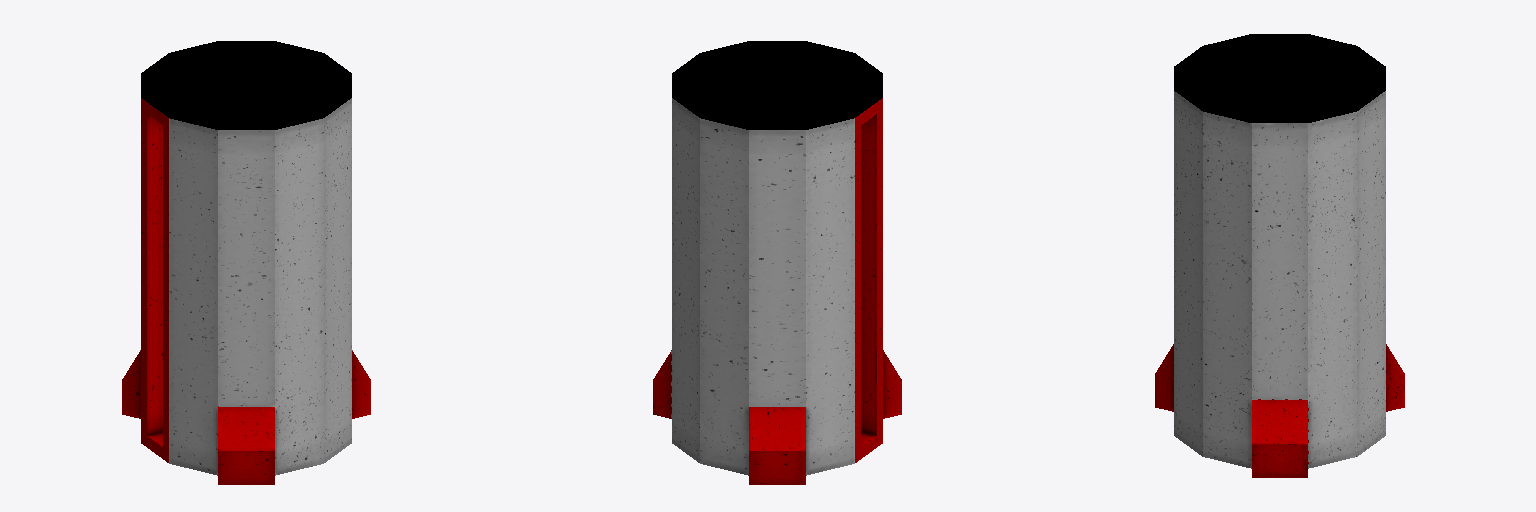
3 views of the same model, side by side, from view 1: azimuth 30°, elevation 25°; view 2: azimuth 150°, elevation 25°; view 3: azimuth 270°, elevation 25° (orthographic).
Visible parts, largest first — view 1: Cylinder001; view 2: Cylinder001; view 3: Cylinder001.
Part boxes in pixels (left/top/right/bottom): Cylinder001: left=122, top=41, right=370, bottom=484; Cylinder001: left=653, top=41, right=901, bottom=484; Cylinder001: left=1155, top=34, right=1404, bottom=477.
Bounding box in the file's own units: 12.78 × 20.87 × 13.66.
1 materials, 1 textured.